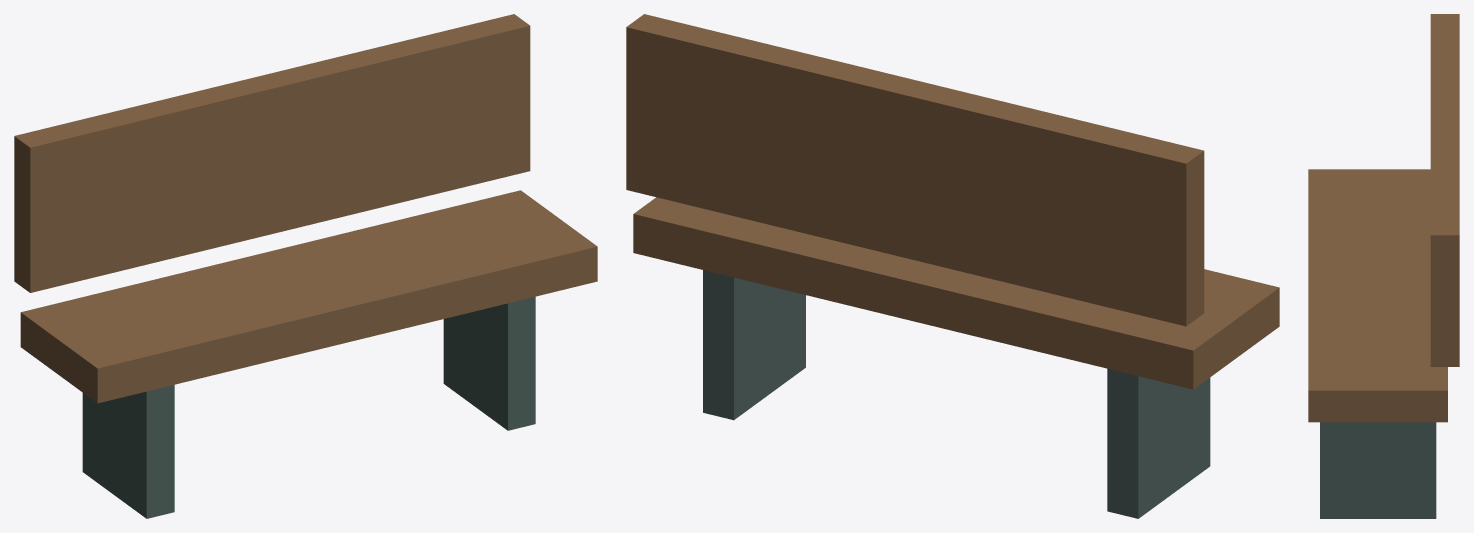
Rendered from bench.gltf.
3 views of the same model, side by side, from view 1: azimuth 30°, elevation 25°; view 2: azimuth 150°, elevation 25°; view 3: azimuth 270°, elevation 25° (orthographic). The views are drawn at different scales.
Bounding box in the file's own units: 1.8 × 1.17 × 0.52.
